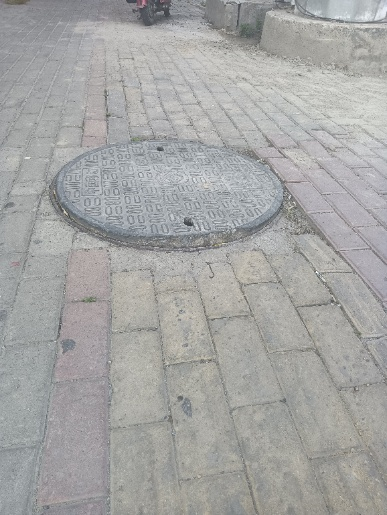good: (51, 137, 283, 250)
